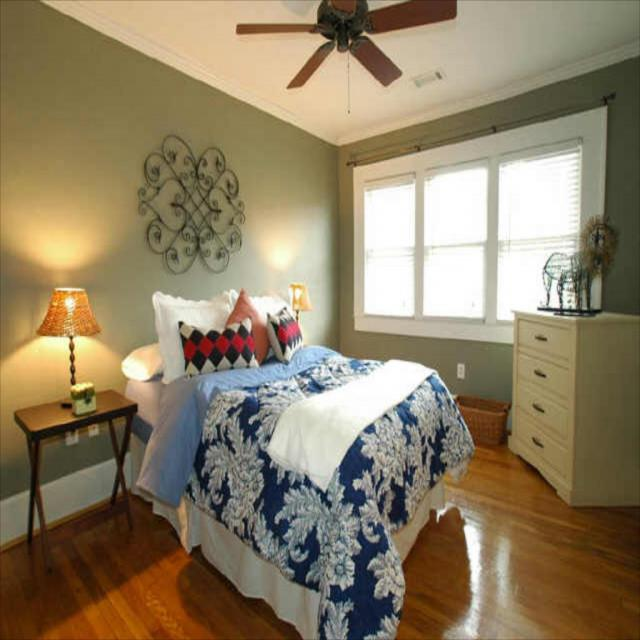Bulb: (235, 0, 456, 111)
